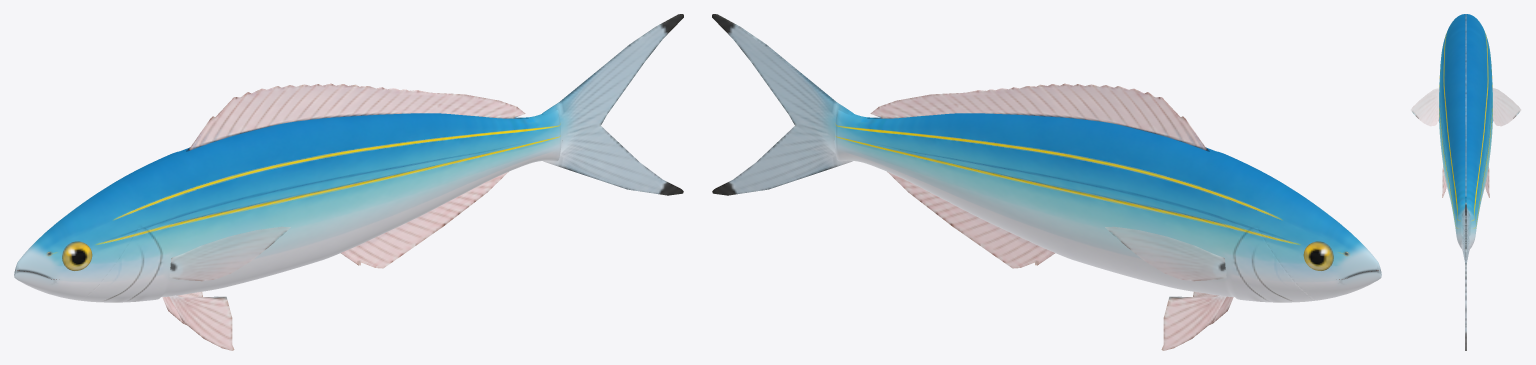
Rendered from takasago-light-v5.glb.
The picture shows the model from 3 angles, left to right: view 1: azimuth 30°, elevation 25°; view 2: azimuth 150°, elevation 25°; view 3: azimuth 270°, elevation 25°; orthographic projection. The views are drawn at different scales.
Visible parts, largest first — view 1: body, dorsal, caudal, anal, pectoral_1, operculum_1, pelvic_1, eye_1; view 2: body, dorsal, caudal, anal, pectoral_-1, operculum_-1, pelvic_-1, eye_-1; view 3: body, pectoral_-1, pectoral_1, caudal, dorsal, pelvic_-1, pelvic_1.
Boxes of the visible parts, box(x1,y1,x2,y2) form: body: box(14, 110, 562, 302); dorsal: box(186, 83, 528, 151); caudal: box(542, 14, 683, 195); anal: box(340, 171, 508, 268); pectoral_1: box(169, 227, 290, 281); operculum_1: box(81, 228, 161, 302); pelvic_1: box(169, 295, 234, 350); eye_1: box(62, 241, 92, 270); body: box(833, 110, 1381, 302); dorsal: box(867, 83, 1209, 151); caudal: box(712, 14, 853, 195); anal: box(887, 171, 1055, 268); pectoral_-1: box(1105, 227, 1226, 281); operculum_-1: box(1234, 228, 1314, 302); pelvic_-1: box(1161, 295, 1226, 350); eye_-1: box(1303, 241, 1333, 270); body: box(1439, 14, 1492, 248); pectoral_-1: box(1492, 88, 1520, 126); pectoral_1: box(1411, 88, 1439, 126); caudal: box(1460, 202, 1471, 350); dorsal: box(1465, 14, 1466, 201); pelvic_-1: box(1485, 165, 1489, 197); pelvic_1: box(1442, 165, 1446, 197).
Size of the model in its own units: 0.29 by 0.0997 by 0.0526.
Materials: 3 (3 with a texture image).
